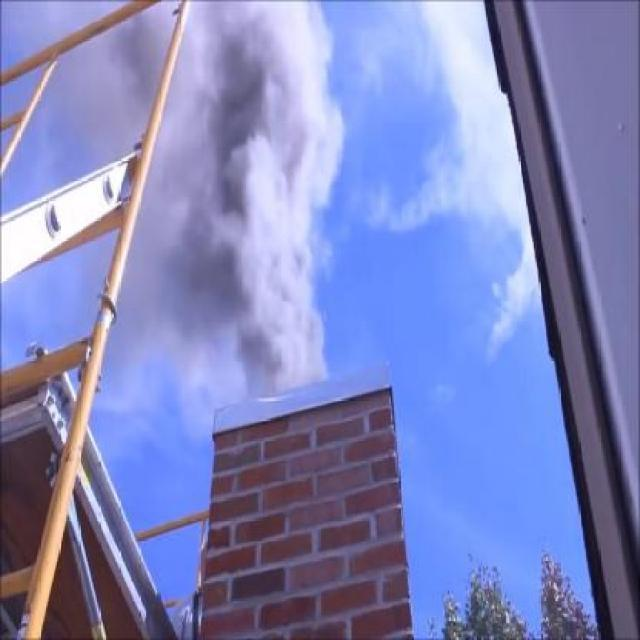smoke: (202, 13, 324, 387)
